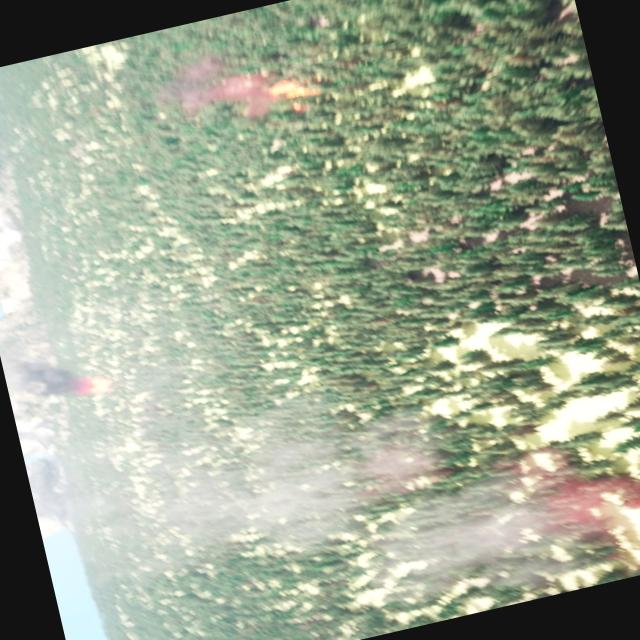fire: (265, 68, 317, 117), (78, 370, 114, 397)
smoke: (0, 194, 640, 640), (140, 40, 268, 136), (2, 348, 81, 404)
